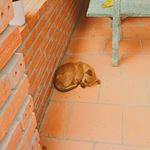puppy: (51, 60, 104, 94)
